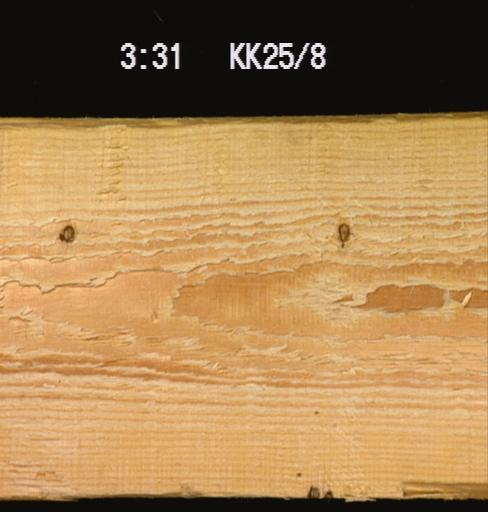dry_knot: (57, 223, 75, 243), (335, 221, 349, 242)
edge_knot: (306, 484, 318, 497), (322, 489, 333, 498)
wave: (0, 115, 193, 138), (396, 473, 486, 496)
